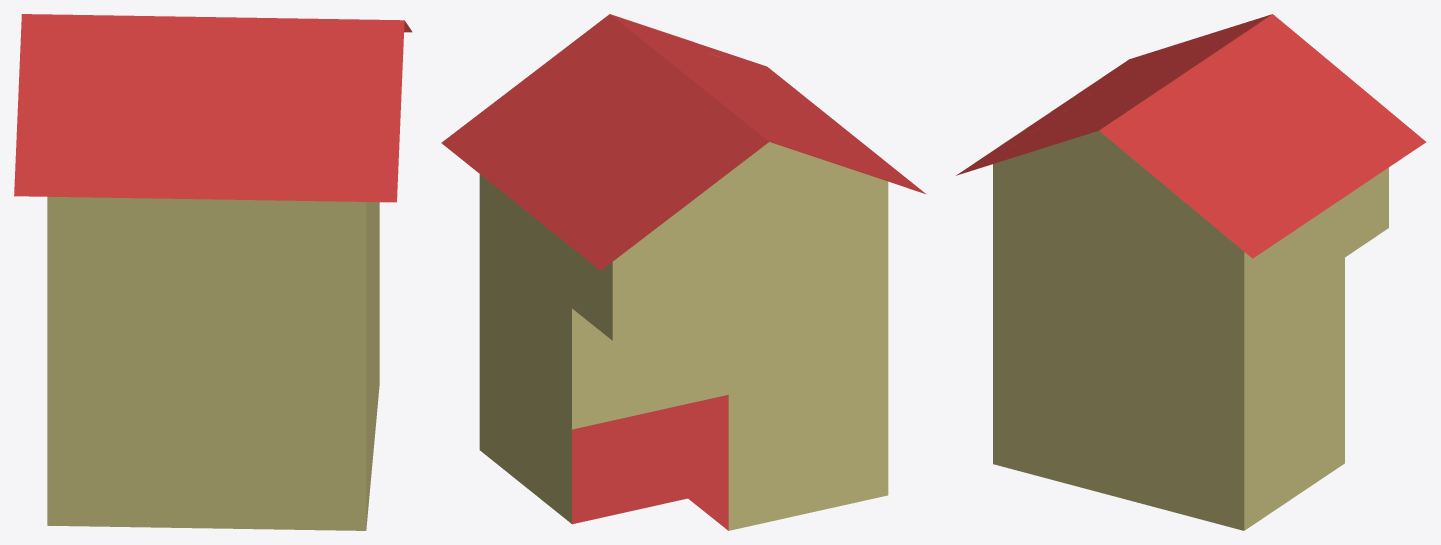
3 views of the same model, side by side, from view 1: azimuth 30°, elevation 25°; view 2: azimuth 150°, elevation 25°; view 3: azimuth 270°, elevation 25° (orthographic). The views are drawn at different scales.
Bounding box in the file's own units: 12.79 × 13.01 × 11.43.
